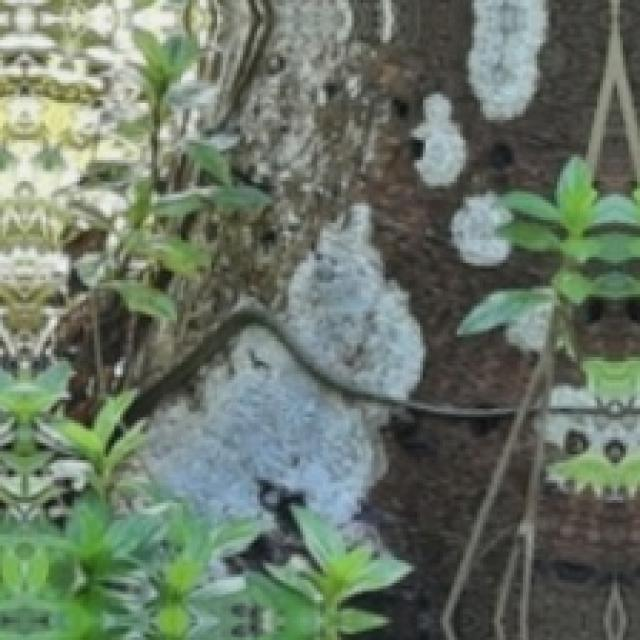paradise tree snake: (129, 309, 511, 417)
